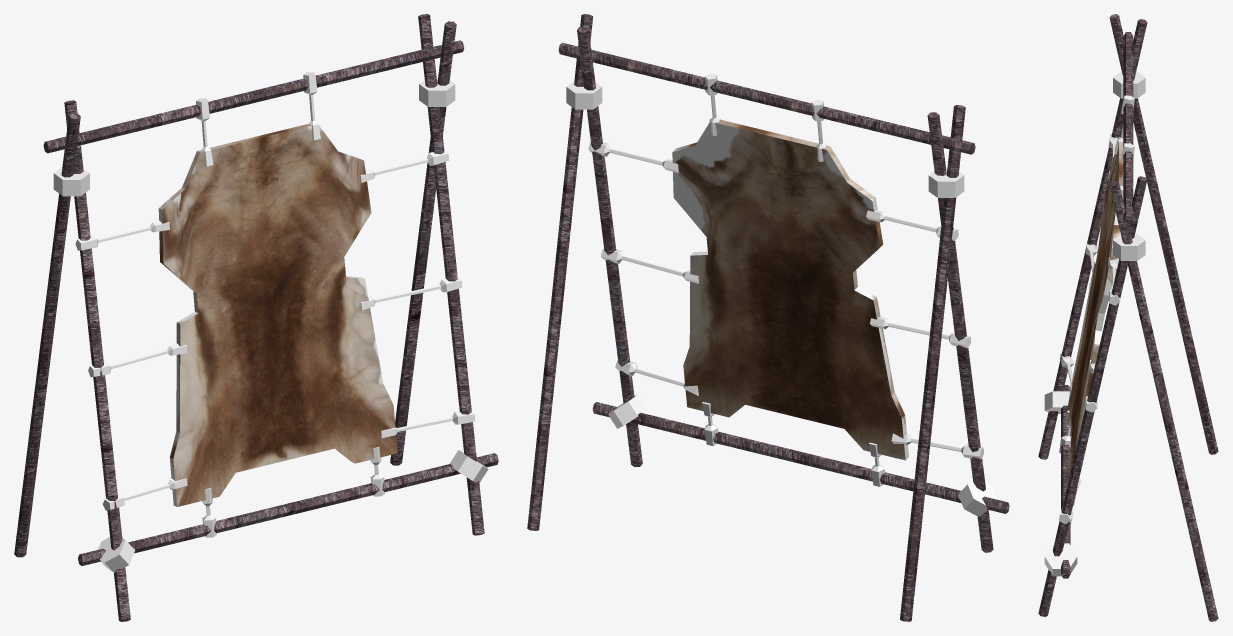
The model's file is Vl_TanningStand.glb.
3 renders of one model, left to right at view 1: azimuth 30°, elevation 25°; view 2: azimuth 150°, elevation 25°; view 3: azimuth 270°, elevation 25°, orthographic. The views are drawn at different scales.
Parts seen in each view (by area): view 1: TanningStand; view 2: TanningStand; view 3: TanningStand.
Part boxes in pixels (bbox=[...]): TanningStand: bbox=[14, 14, 498, 621]; TanningStand: bbox=[527, 14, 1009, 621]; TanningStand: bbox=[1038, 14, 1218, 621].
Bounding box in the file's own units: 2.22 × 2.46 × 0.9174.
4 materials, 3 textured.
